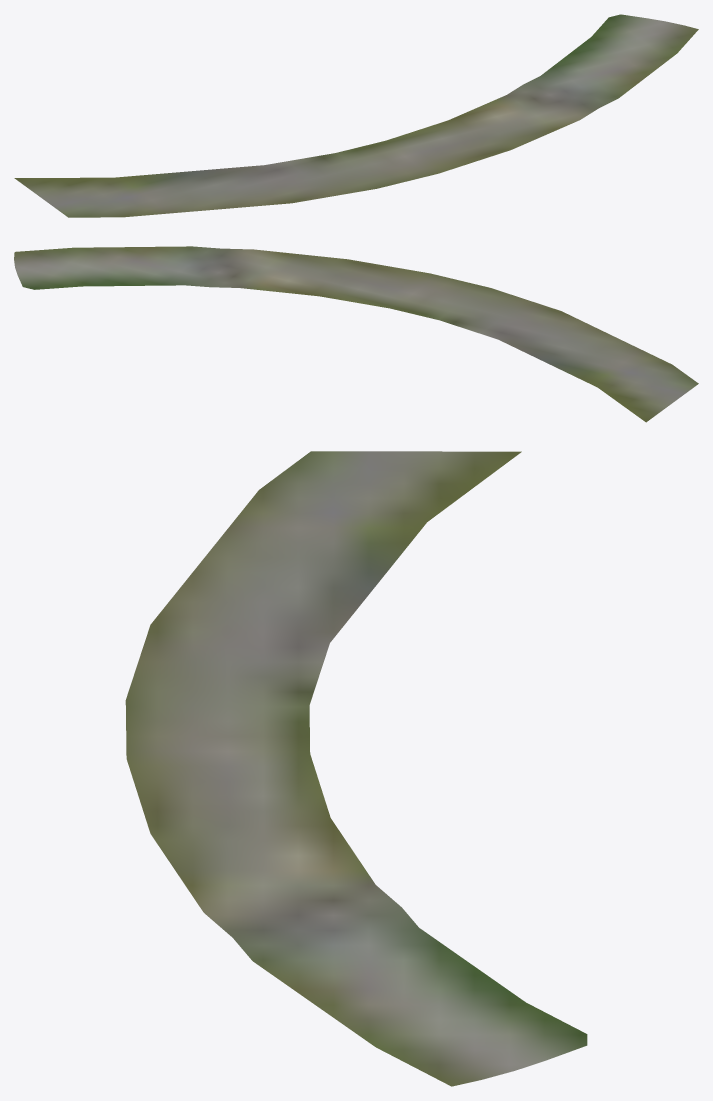
The model's file is LSME_-1_-2.glb.
3 renders of one model, top to bottom at view 1: azimuth 30°, elevation 25°; view 2: azimuth 150°, elevation 25°; view 3: azimuth 270°, elevation 25°, orthographic. The views are drawn at different scales.
Visible parts, largest first — view 1: pavement_LSME_pavement_5331_2430; view 2: pavement_LSME_pavement_5331_2430; view 3: pavement_LSME_pavement_5331_2430.
Part boxes in pixels (x1=…): pavement_LSME_pavement_5331_2430: x1=14, y1=14, x2=698, y2=217; pavement_LSME_pavement_5331_2430: x1=14, y1=246, x2=698, y2=422; pavement_LSME_pavement_5331_2430: x1=125, y1=451, x2=587, y2=1086.
Bounding box in the file's own units: 122 × 0.159 × 37.68.
1 material, 1 textured.
